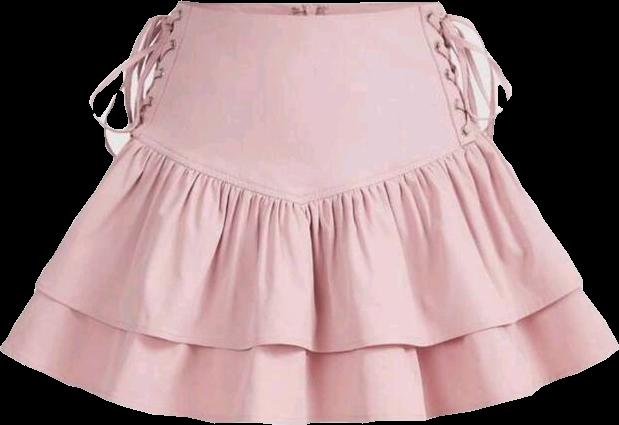Hemline: (0, 346, 618, 424), (34, 279, 585, 355)
Waistline: (134, 131, 482, 205), (176, 0, 441, 18)
